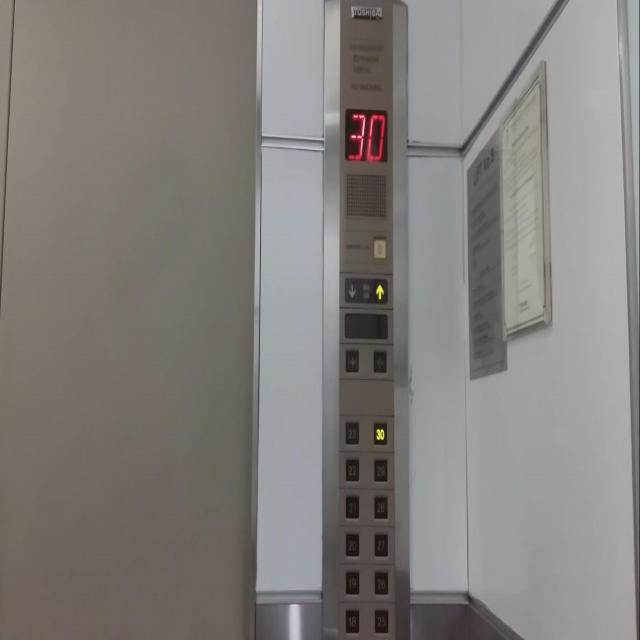18: (344, 607, 360, 634)
19: (344, 568, 360, 596)
20: (344, 530, 360, 558)
21: (344, 493, 360, 521)
22: (344, 455, 360, 483)
23: (344, 418, 360, 446)
25: (373, 607, 389, 634)
26: (373, 568, 389, 596)
27: (373, 530, 389, 558)
28: (372, 492, 388, 520)
29: (372, 456, 388, 483)
30: (371, 417, 387, 445)
alarm: (372, 234, 388, 261)
close: (372, 347, 388, 375)
led: (344, 103, 390, 166), (343, 310, 389, 341)
open: (343, 347, 359, 374)
unknown: (343, 275, 388, 304)
